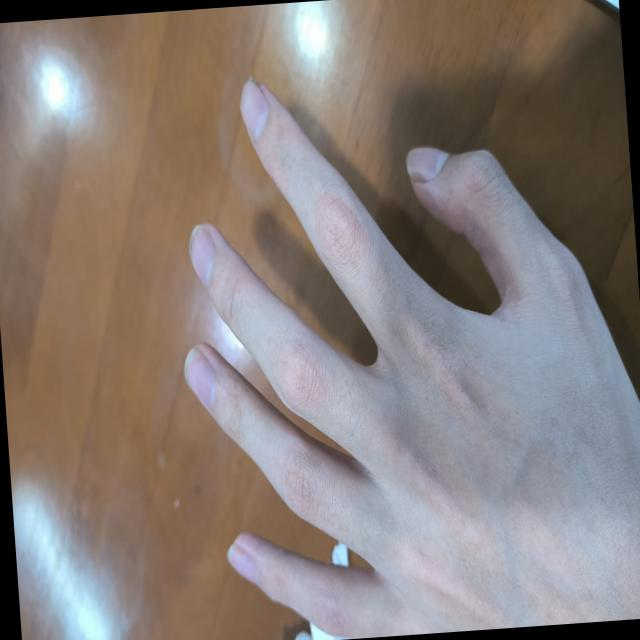Nail: (184, 346, 215, 409), (240, 78, 268, 139), (189, 223, 215, 286), (405, 146, 449, 181), (227, 543, 259, 582)
